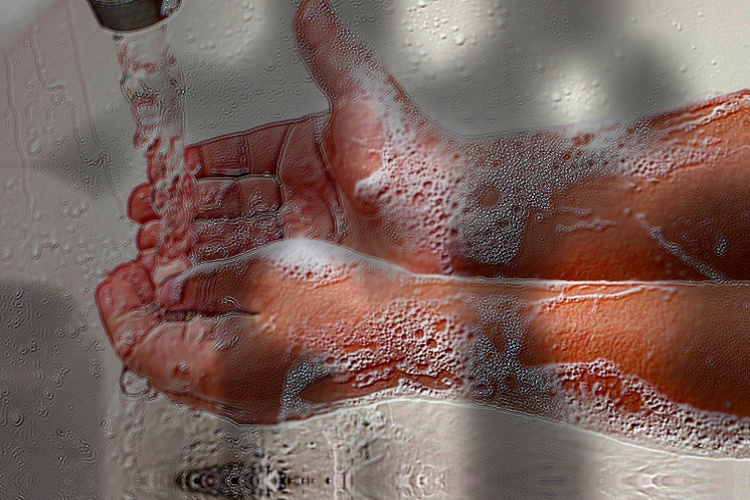washing hand: (26, 5, 633, 439)
